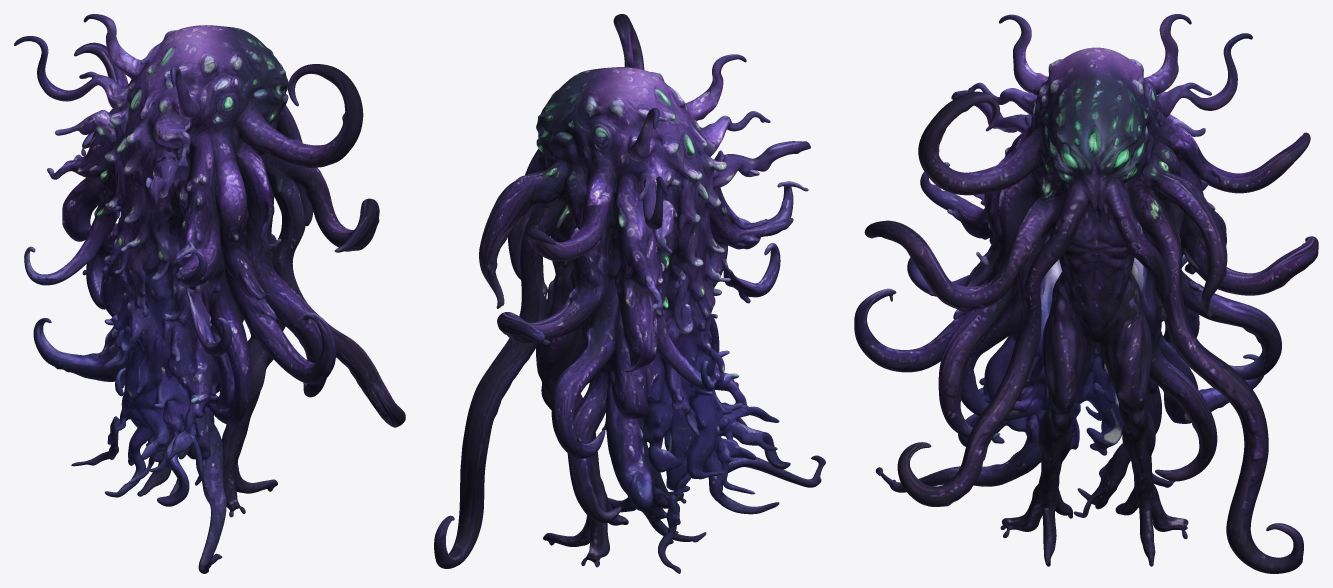
Rendered from floor9-tentacled-horror.glb.
3 renders of one model, left to right at view 1: azimuth 30°, elevation 25°; view 2: azimuth 150°, elevation 25°; view 3: azimuth 270°, elevation 25°, orthographic. The views are drawn at different scales.
Parts seen in each view (by area): view 1: tripo_node_06e8049d-3ef2-454c-9623-0ffd85caacb1; view 2: tripo_node_06e8049d-3ef2-454c-9623-0ffd85caacb1; view 3: tripo_node_06e8049d-3ef2-454c-9623-0ffd85caacb1.
Part boxes in pixels (x1,y1,x2,y2): tripo_node_06e8049d-3ef2-454c-9623-0ffd85caacb1: (14,14,405,573); tripo_node_06e8049d-3ef2-454c-9623-0ffd85caacb1: (434,14,825,573); tripo_node_06e8049d-3ef2-454c-9623-0ffd85caacb1: (854,14,1318,573).
Bounding box in the file's own units: 0.5742 × 1 × 0.8539.
Materials: 1 (1 with a texture image).
